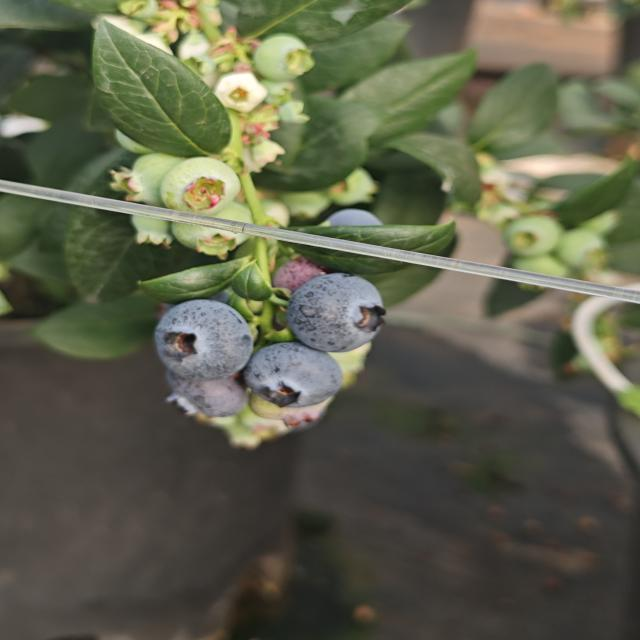ripe: (152, 298, 256, 382), (283, 271, 388, 354), (241, 341, 345, 411), (165, 368, 246, 426), (309, 200, 389, 242)
